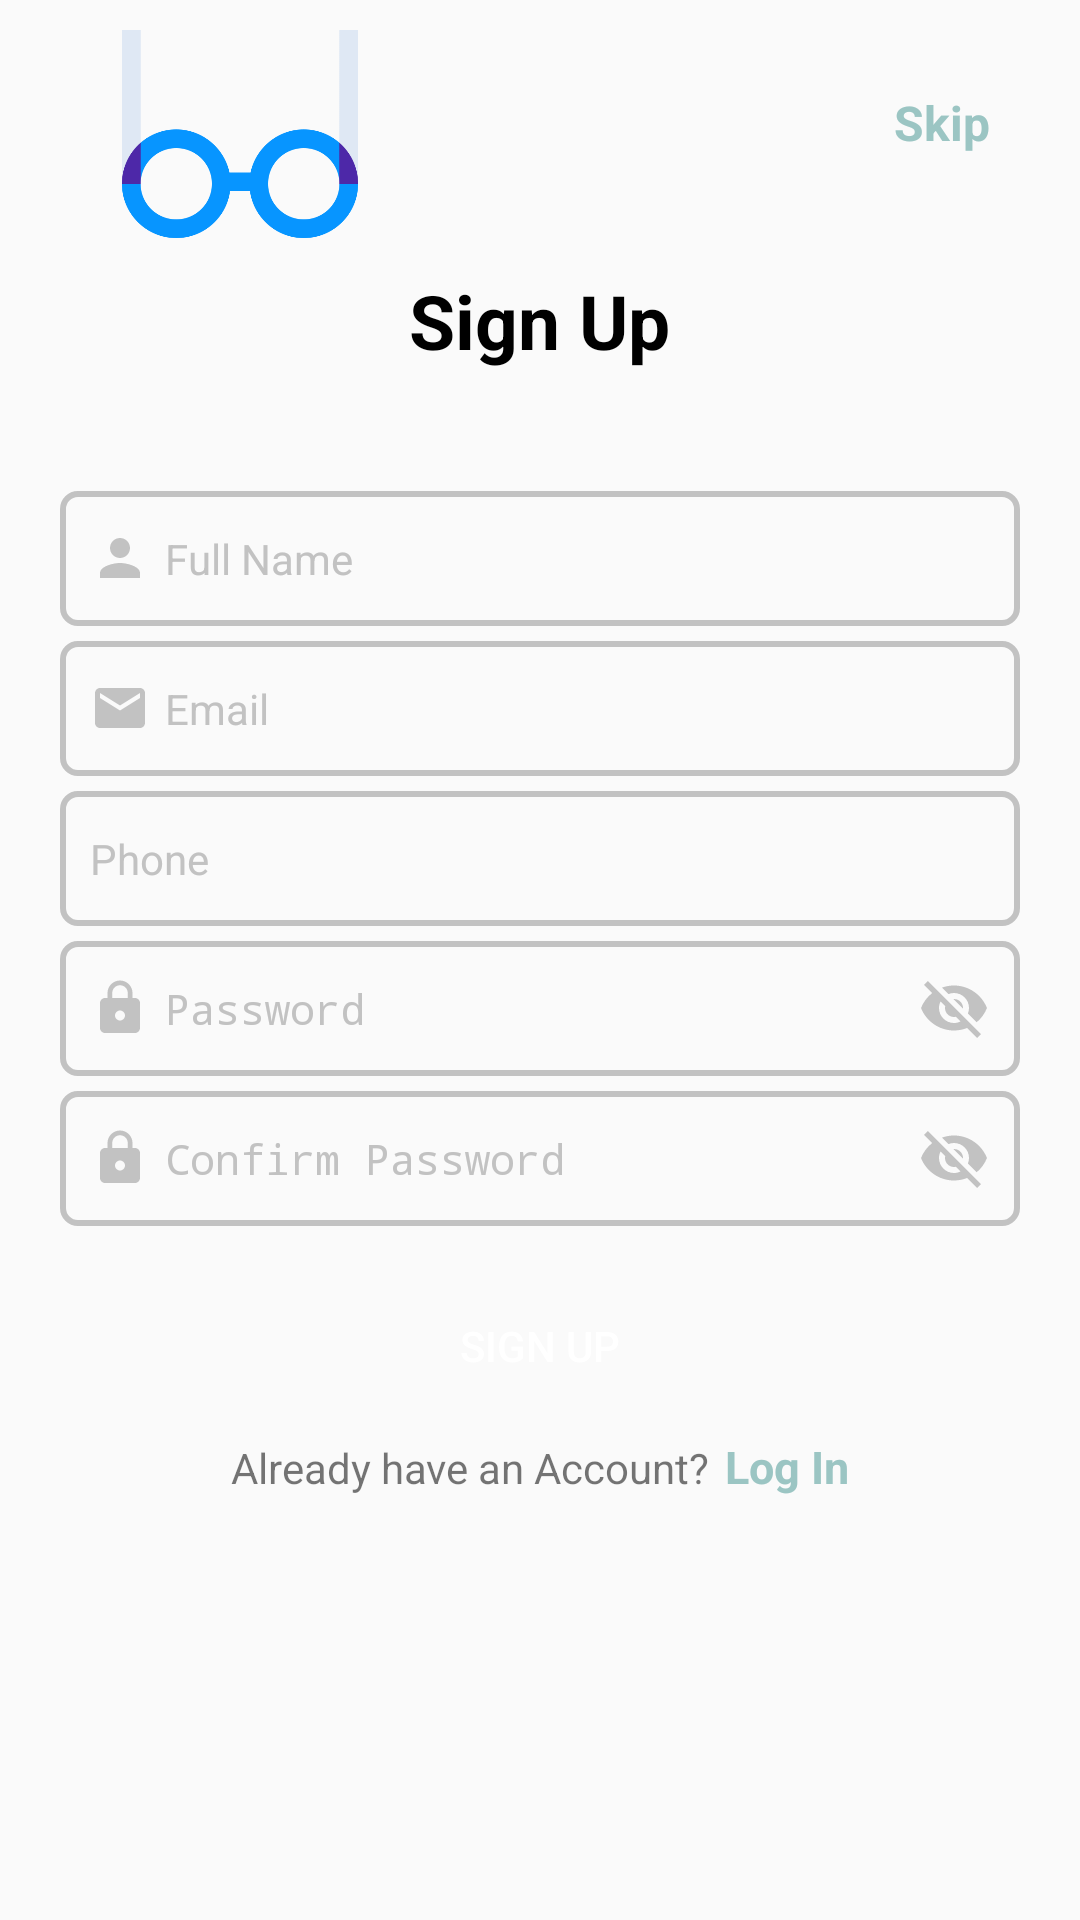

Icons on this 1080w x 1920h Android screen, each with the point to tap as point (x, y):
visibility off: point (954, 1009), point (954, 1159)
